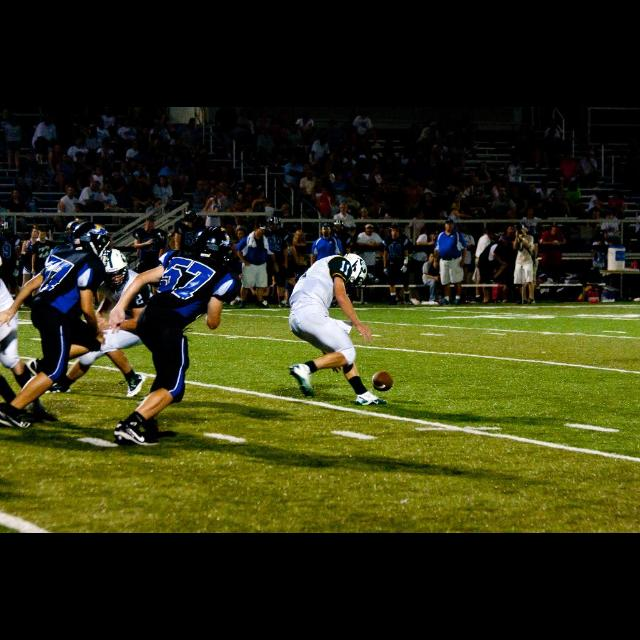Football: (370, 370, 390, 390)
